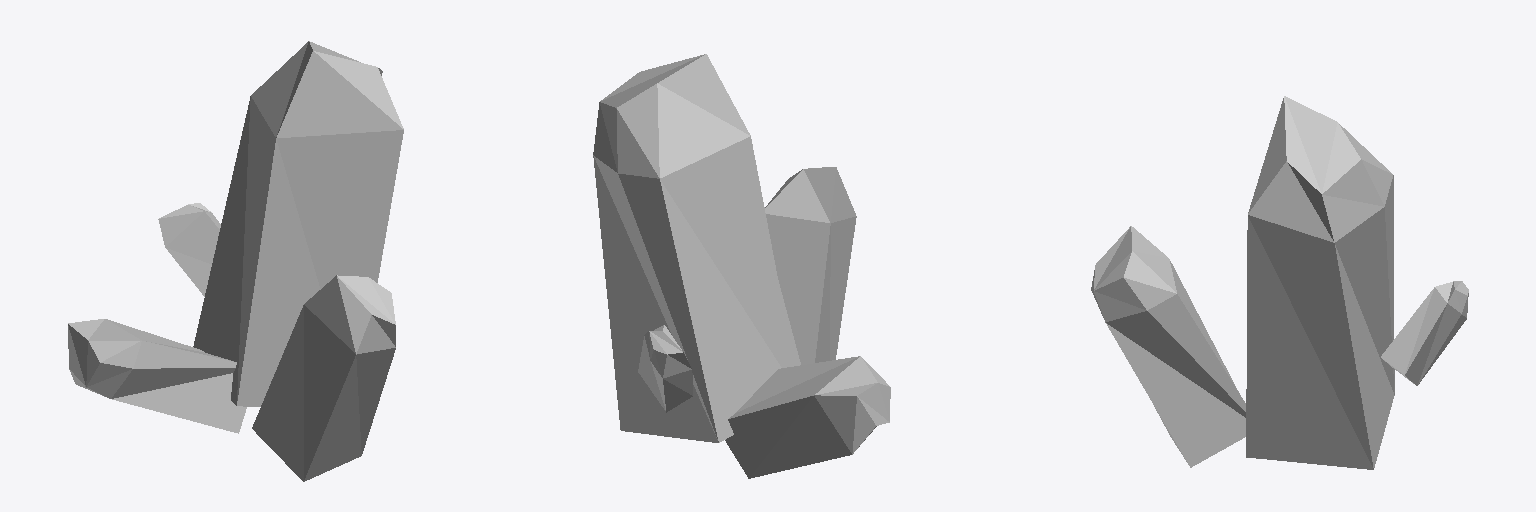
Rendered from Ore.obj.
3 renders of one model, left to right at view 1: azimuth 30°, elevation 25°; view 2: azimuth 150°, elevation 25°; view 3: azimuth 270°, elevation 25°, orthographic.
Visible parts, largest first — view 1: Ore_1, Ore_2, Ore_3, Ore_4; view 2: Ore_1, Ore_3, Ore_2, Ore_4; view 3: Ore_1, Ore_2, Ore_4.
Part boxes in pixels (left/top/right/bottom): Ore_1: left=193, top=41, right=403, bottom=406; Ore_2: left=252, top=275, right=395, bottom=481; Ore_3: left=68, top=319, right=246, bottom=433; Ore_4: left=158, top=203, right=220, bottom=296; Ore_1: left=593, top=54, right=794, bottom=442; Ore_3: left=725, top=356, right=890, bottom=478; Ore_2: left=765, top=167, right=856, bottom=365; Ore_4: left=638, top=325, right=692, bottom=412; Ore_1: left=1246, top=96, right=1394, bottom=469; Ore_2: left=1091, top=226, right=1245, bottom=467; Ore_4: left=1381, top=281, right=1468, bottom=385.
Bounding box in the file's own units: 2.65 × 3.24 × 2.93.